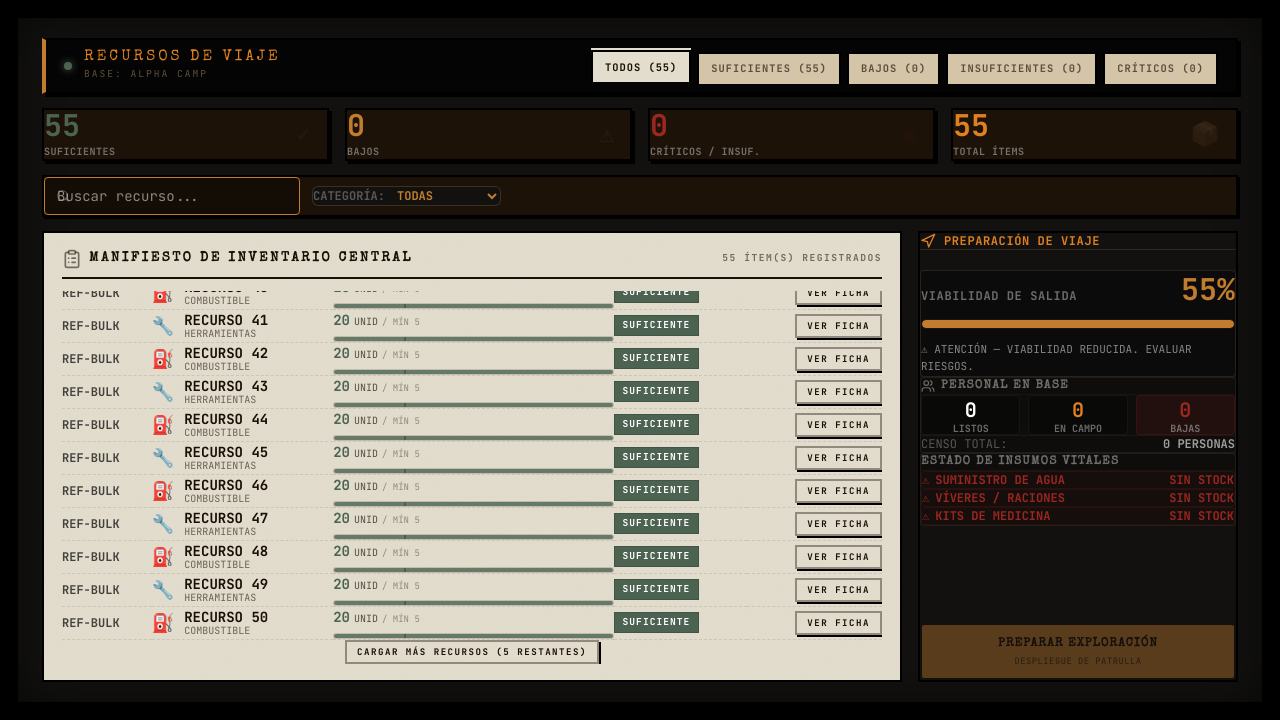
Test case: TravelResources › loads additional resources when the visible list is paginated
The width and height of the screenshot is (1280, 720).
(page scrolled)
expect the text "Recurso 55" is not shown: met
Click the button "CARGAR MÁS RECURSOS (5 RESTANTES)": x=472, y=652 [345,640,599,664]
(page scrolled)
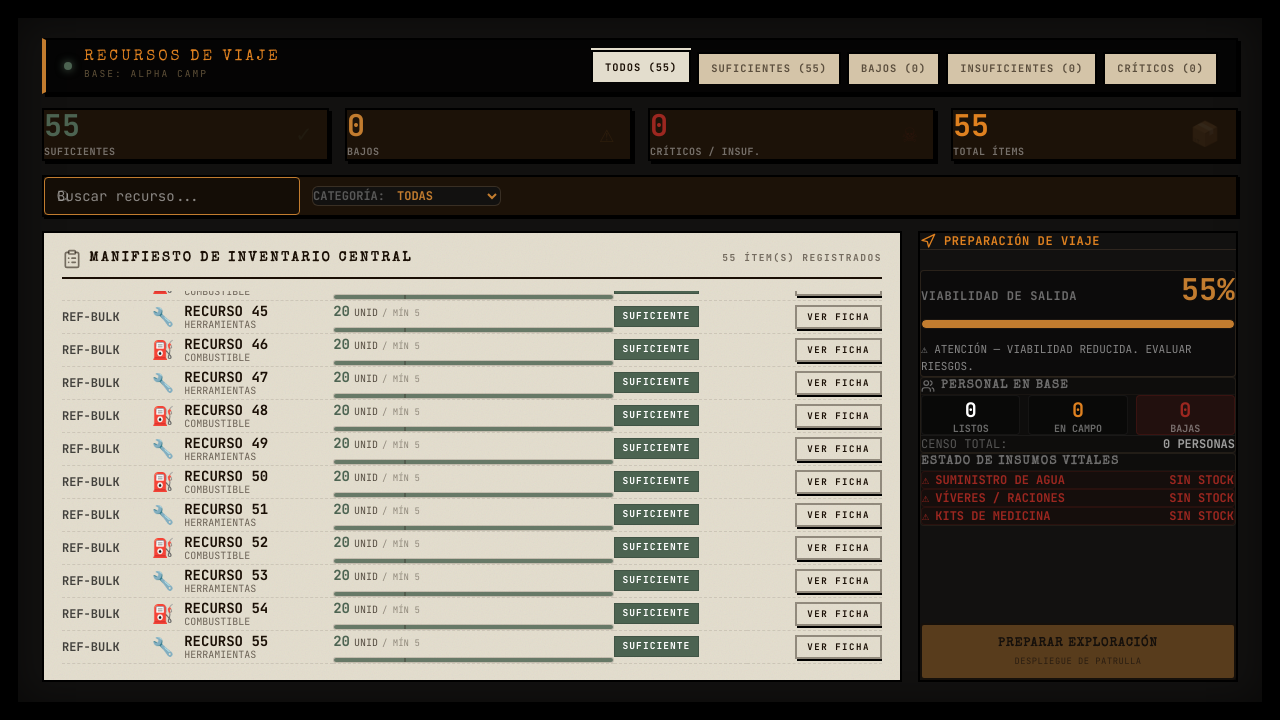
expect the text "Recurso 55" is shown: met, box [184,633,268,650]
